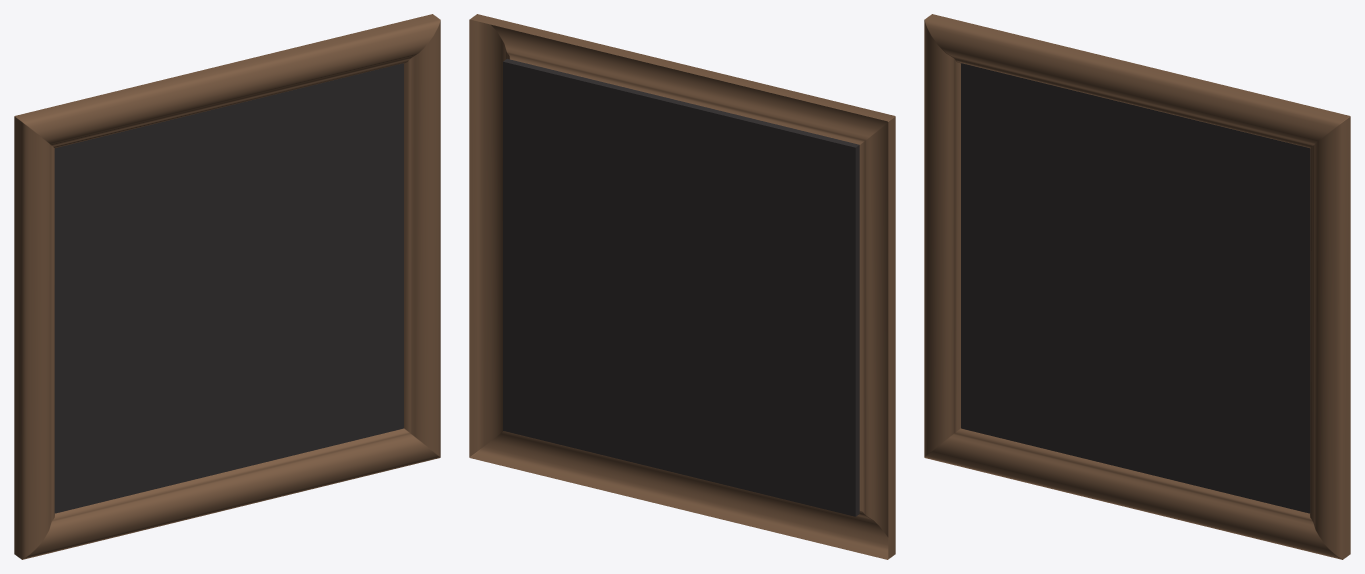
The model's file is lp_picture_frame.glb.
3 renders of one model, left to right at view 1: azimuth 30°, elevation 25°; view 2: azimuth 150°, elevation 25°; view 3: azimuth 330°, elevation 25°, orthographic.
Visible parts, largest first — view 1: lp_picture_frame; view 2: lp_picture_frame; view 3: lp_picture_frame.
Boxes of the visible parts, box(x1,y1,x2,y2) form: lp_picture_frame: box(14, 14, 440, 559); lp_picture_frame: box(469, 14, 895, 559); lp_picture_frame: box(924, 14, 1350, 559).
Bounding box in the file's own units: 1.2 × 1.2 × 0.057.
